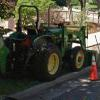Tractor: (9, 0, 92, 80)
